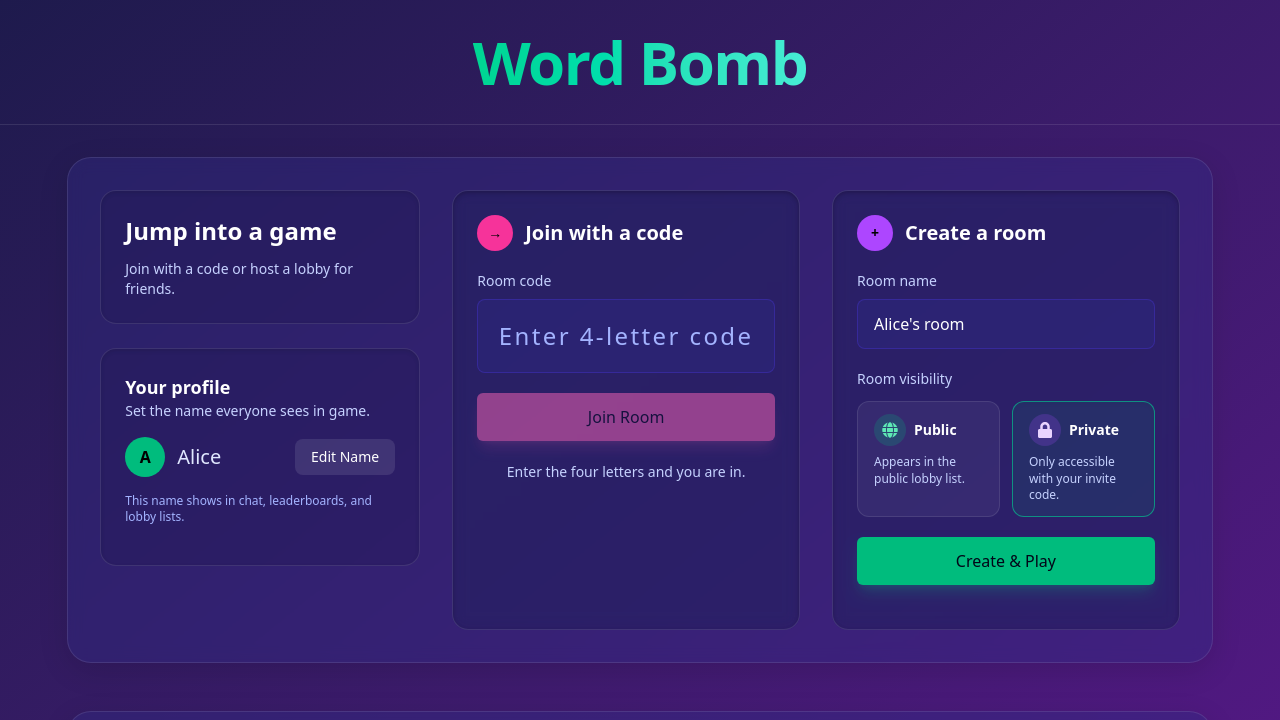
HomePage › edits and saves name
Step 1. Click the button with aria-label "Edit your name" → (345, 457), box [295,439,395,475]
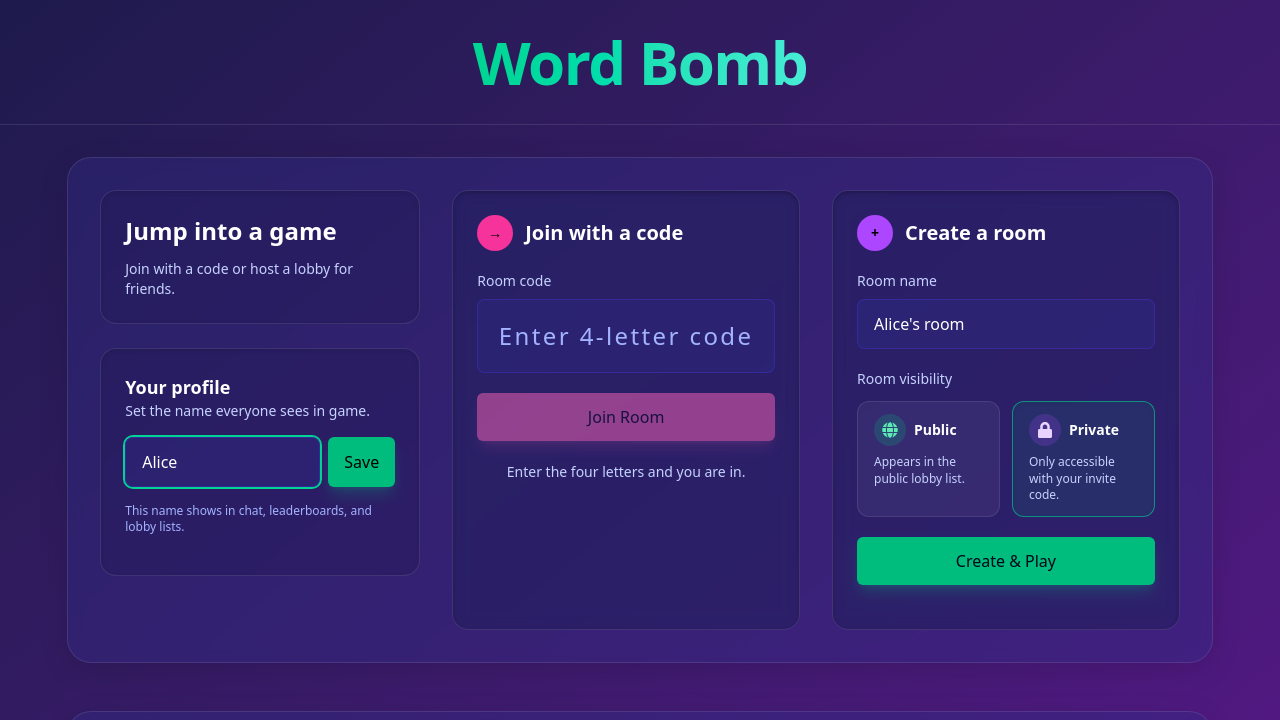
Step 2. Replace the text in the field named "Your display name" with "Bob" → (223, 462), box [125,437,320,487]
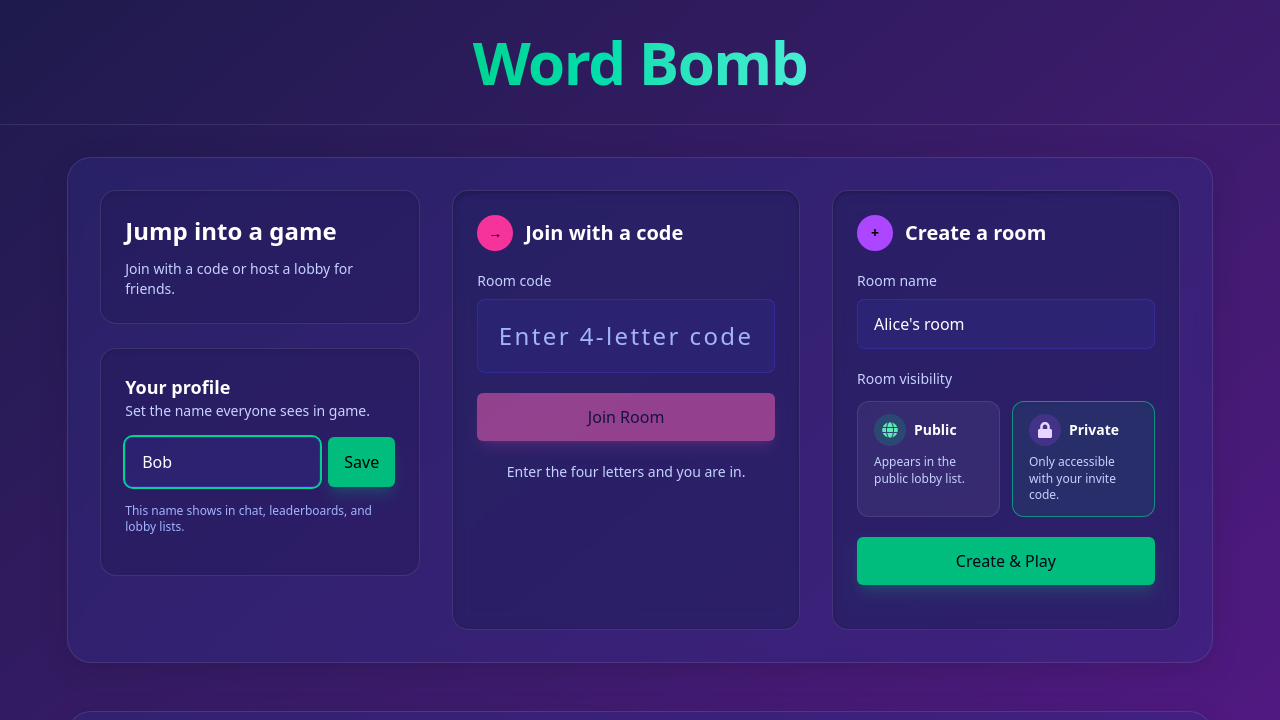
Step 3. Press Enter in the field named "Your display name", box [125,437,320,487]
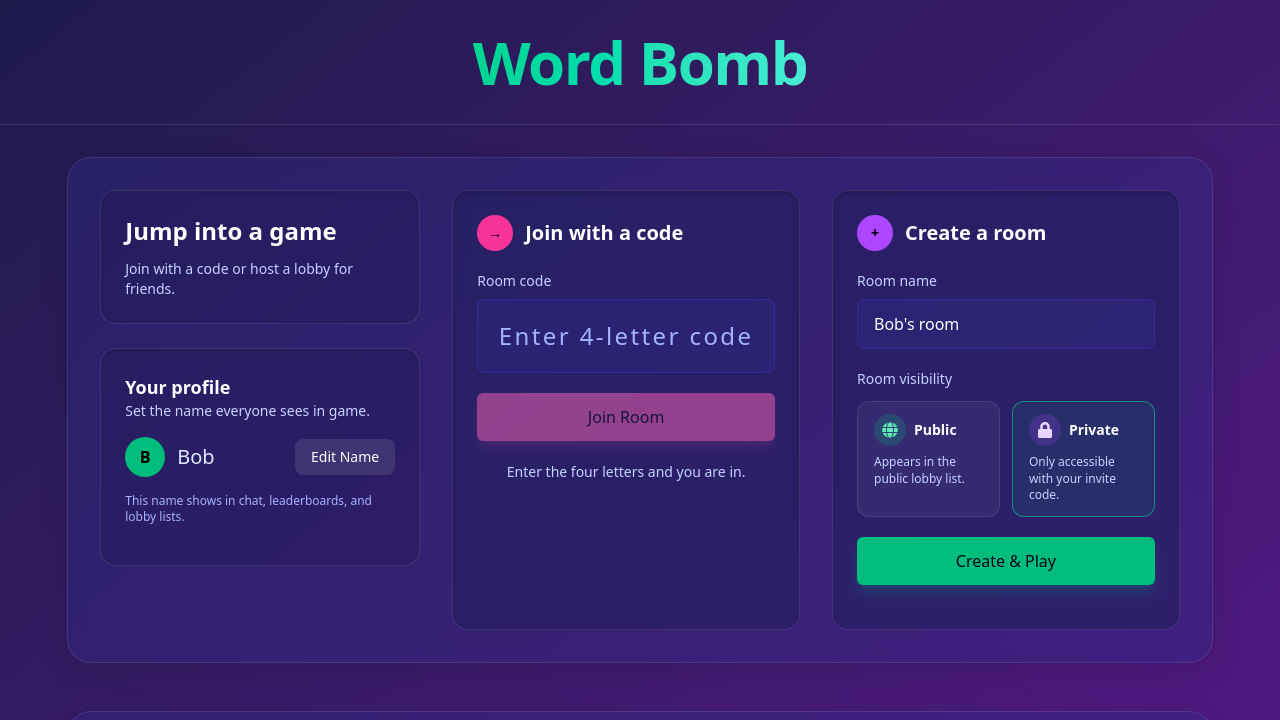
Now the text "Bob" is shown, box [177,443,215,470]
